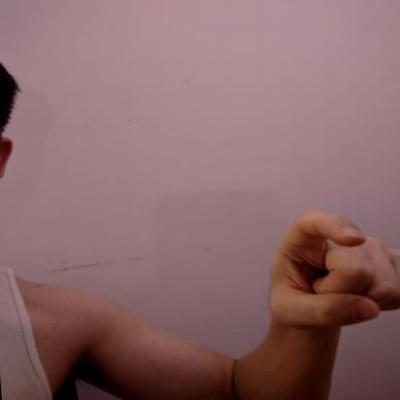hand: (255, 204, 399, 338)
